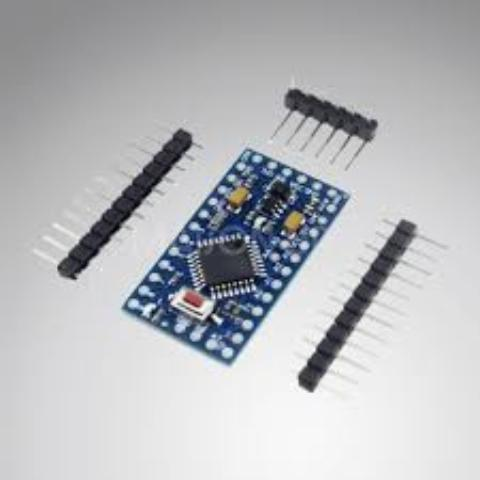Arduino-Pro-Mini: (112, 131, 350, 379)
